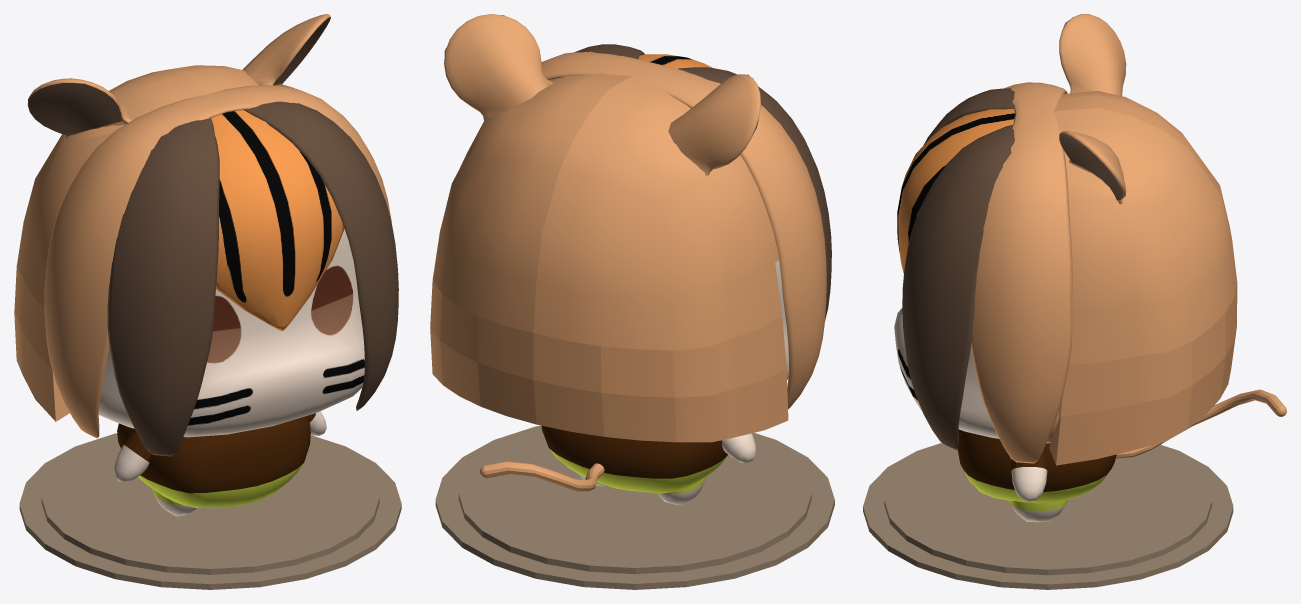
The model's file is tiger.fbx.
3 views of the same model, side by side, from view 1: azimuth 30°, elevation 25°; view 2: azimuth 150°, elevation 25°; view 3: azimuth 270°, elevation 25° (orthographic). The views are drawn at different scales.
Parts seen in each view (by area): view 1: base1, pCube121, pCube57, pCube3, pCube53, pCube54, pCube122, pCube4, polySurface12, polySurface10, pCube58, pCube38 (+2 smaller); view 2: pCube122, base1, pCube58, pCube57, polySurface10, pCube4, polySurface11, pCube121, pSphere3, pCube38, pCube53, pCube54 (+1 smaller); view 3: pCube58, base1, pCube57, pCube54, pCube4, pCube53, polySurface11, pCube122, pCube3, pCube121, pSphere3, polySurface9 (+3 smaller).
Part boxes in pixels (x1,y1,x2,y2): base1: (19,433,401,589); pCube121: (107,118,219,456); pCube57: (44,85,391,438); pCube3: (98,229,364,437); pCube53: (211,110,344,330); pCube54: (244,101,398,410); pCube122: (14,69,207,421); pCube4: (117,415,310,507); polySurface12: (28,83,121,135); polySurface10: (242,14,330,85); pCube58: (168,65,294,94); pCube38: (114,430,150,482); pCube122: (533,76,788,442); base1: (435,425,834,589); pCube58: (430,73,632,424); pCube57: (541,51,826,409); polySurface10: (444,14,552,121); pCube4: (541,426,728,493); polySurface11: (668,74,760,175); pCube121: (678,67,831,320); pSphere3: (480,461,604,491); pCube38: (721,433,756,462); pCube53: (638,54,712,68); pCube54: (575,44,644,58); pCube58: (1049,108,1237,465); base1: (863,443,1233,589); pCube57: (971,82,1072,463); pCube54: (902,124,1014,449); pCube4: (957,429,1116,503); pCube53: (897,109,1015,273); polySurface11: (1059,14,1126,95); pCube122: (1053,91,1231,236); pCube3: (894,308,1050,443); pCube121: (923,88,1014,145); pSphere3: (1115,389,1286,458); polySurface9: (1059,133,1122,200).
Size of the model in its own units: 6 by 7.79 by 6.87.
4 materials, 1 textured.
